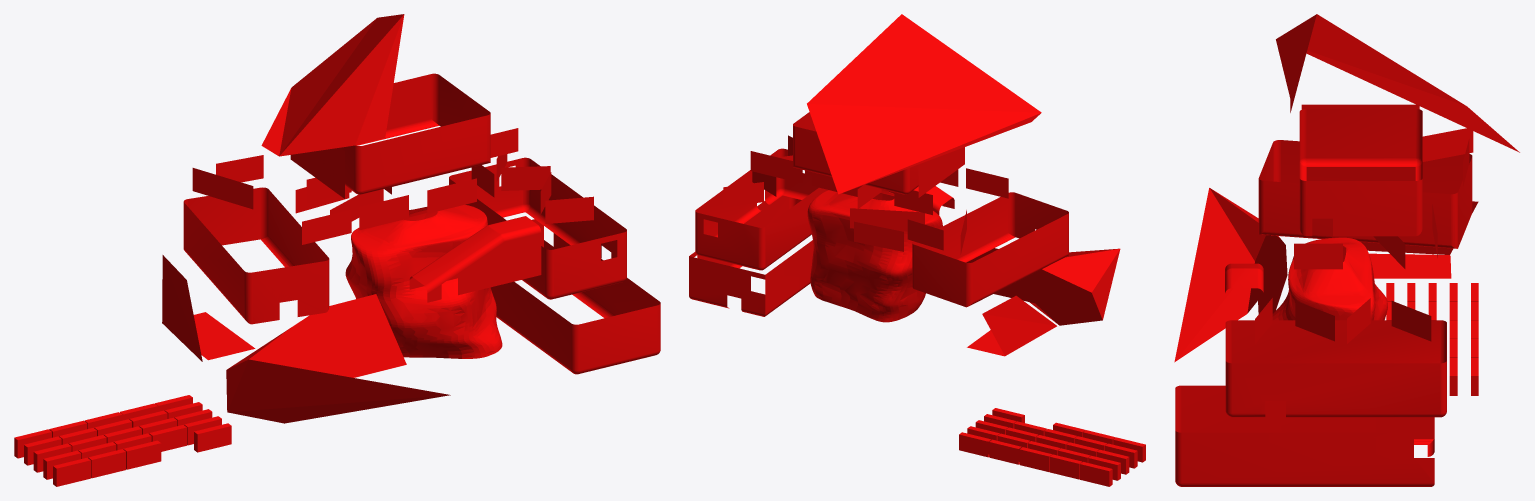
File: 260303_3dmod_exploded-media.glb
3 views of the same model, side by side, from view 1: azimuth 30°, elevation 25°; view 2: azimuth 150°, elevation 25°; view 3: azimuth 270°, elevation 25° (orthographic). The views are drawn at different scales.
Parts seen in each view (by area): view 1: media_LAYER.006, media_LAYER.004, media_LAYER.002, media_LAYER.005, media_LAYER.003, media_LAYER.035, media_LAYER, media_LAYER.001, media_LAYER.009, media_LAYER.011, media_LAYER.007, media_LAYER.021 (+4 smaller); view 2: media_LAYER.005, media_LAYER.002, media_LAYER.004, media_LAYER.035, media_LAYER.001, media_LAYER, media_LAYER.006, media_LAYER.007, media_LAYER.015, media_LAYER.003, media_LAYER.022, media_LAYER.021 (+3 smaller); view 3: media_LAYER, media_LAYER.001, media_LAYER.003, media_LAYER.002, media_LAYER.006, media_LAYER.005, media_LAYER.004, media_LAYER.021, media_LAYER.035, media_LAYER.007, media_LAYER.010, media_LAYER.011 (+3 smaller).
Boxes of the visible parts, x1,y1,x2,y2 form: media_LAYER.006: (226, 294, 450, 423); media_LAYER.004: (345, 204, 502, 358); media_LAYER.002: (183, 187, 329, 324); media_LAYER.005: (261, 14, 404, 156); media_LAYER.003: (340, 73, 490, 194); media_LAYER.035: (14, 395, 231, 486); media_LAYER: (490, 219, 660, 374); media_LAYER.001: (449, 157, 626, 299); media_LAYER.009: (409, 216, 541, 302); media_LAYER.011: (302, 165, 494, 244); media_LAYER.007: (162, 255, 255, 361); media_LAYER.021: (496, 154, 593, 223); media_LAYER.005: (807, 14, 1041, 194); media_LAYER.002: (912, 192, 1068, 307); media_LAYER.004: (807, 189, 942, 322); media_LAYER.035: (959, 408, 1145, 486); media_LAYER.001: (695, 148, 828, 270); media_LAYER: (689, 195, 813, 316); media_LAYER.006: (966, 248, 1120, 325); media_LAYER.007: (967, 295, 1056, 356); media_LAYER.015: (750, 151, 932, 215); media_LAYER.003: (793, 112, 918, 194); media_LAYER.022: (850, 208, 924, 251); media_LAYER.021: (723, 135, 792, 207); media_LAYER: (1175, 385, 1434, 486); media_LAYER.001: (1225, 320, 1446, 417); media_LAYER.003: (1299, 109, 1422, 236); media_LAYER.002: (1258, 140, 1472, 248); media_LAYER.006: (1174, 188, 1287, 362); media_LAYER.005: (1276, 14, 1519, 152); media_LAYER.004: (1272, 237, 1387, 320); media_LAYER.021: (1255, 298, 1431, 343); media_LAYER.035: (1386, 283, 1478, 395); media_LAYER.007: (1361, 201, 1478, 278); media_LAYER.010: (1422, 128, 1473, 186); media_LAYER.011: (1294, 243, 1342, 269).
Size of the model in its own units: 9.1 by 7.16 by 4.91.
